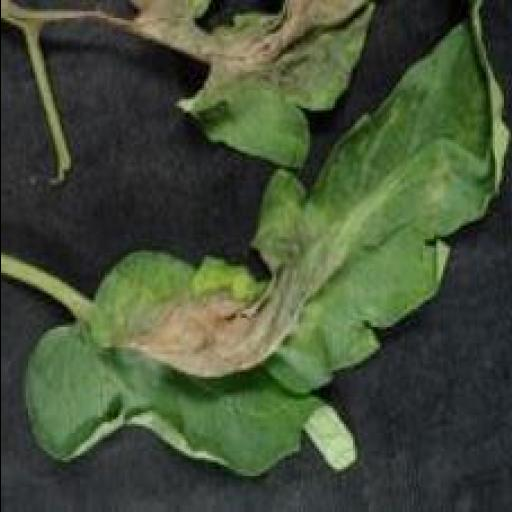Late Blight: (14, 2, 512, 487)
